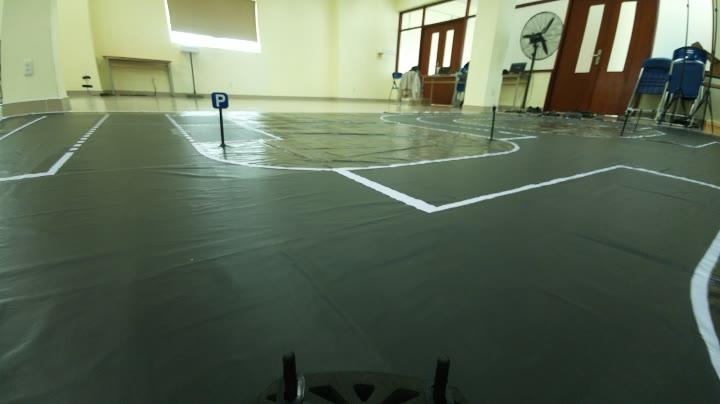parking: (204, 91, 233, 111)
